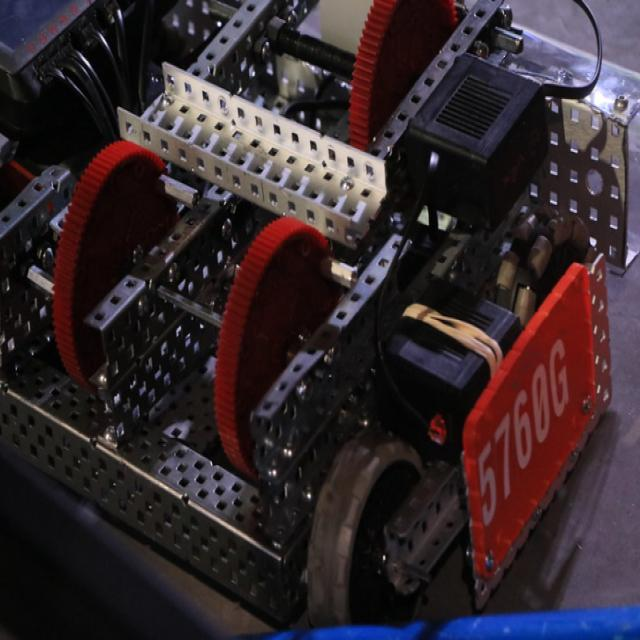License-Plates: (471, 311, 603, 570)
